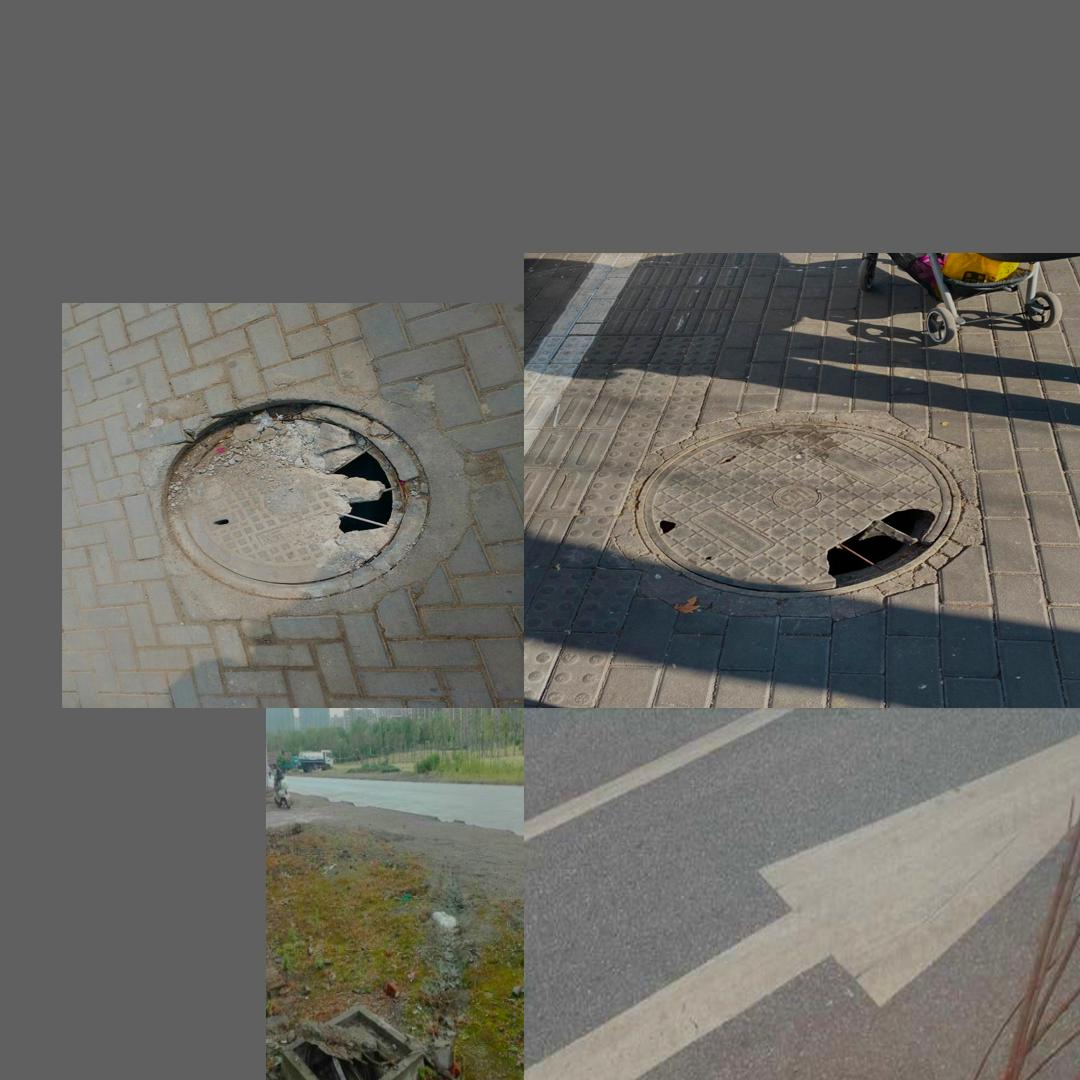broke: (159, 384, 440, 619), (634, 420, 963, 599), (281, 1003, 424, 1080), (676, 1078, 1006, 1080)
